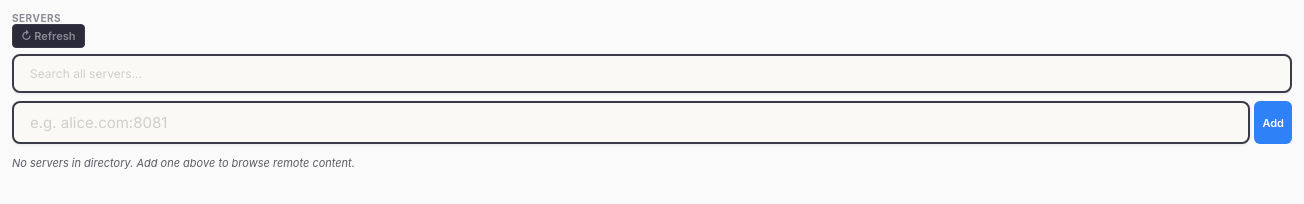
Scenario: ServerDirectoryPanel › shows error message when add fails
Type "bad.example.com" into the field with placeholder "e.g. alice.com:8081" at [631, 122], box [12,101,1250,144]
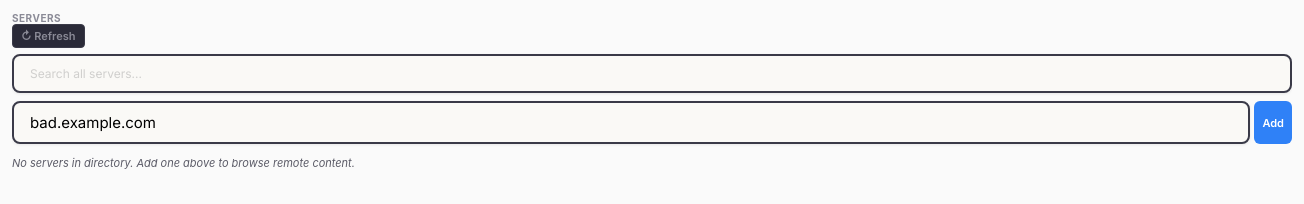
Click the button "Add" at [1273, 122], box [1254,101,1292,144]
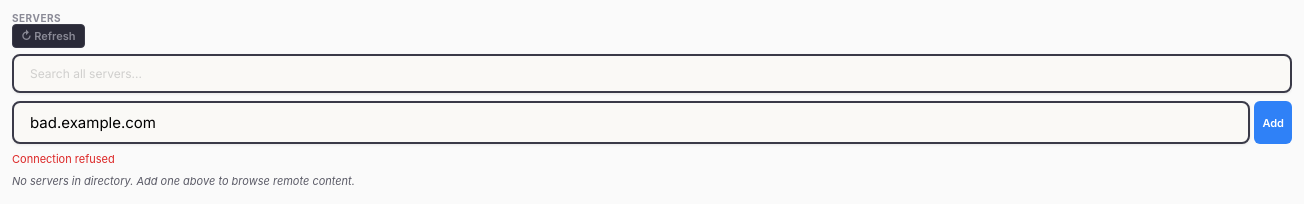
Expected: the text "Connection refused" is shown, [12,152,115,166]
